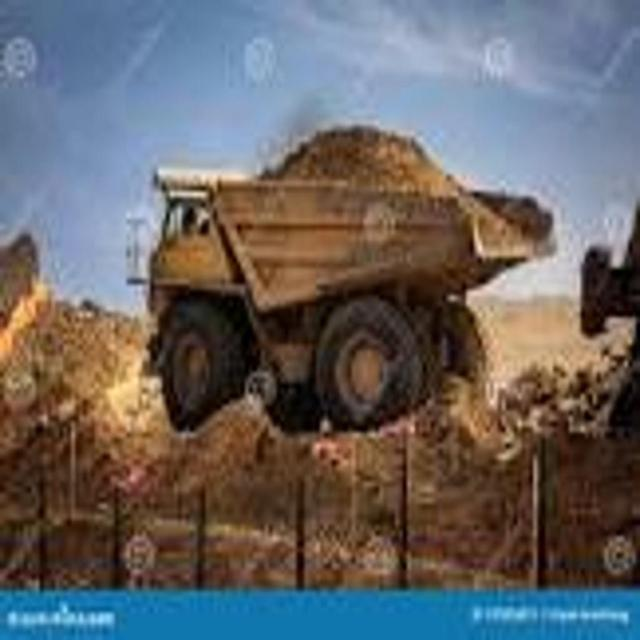dump_truck: (136, 121, 560, 431)
